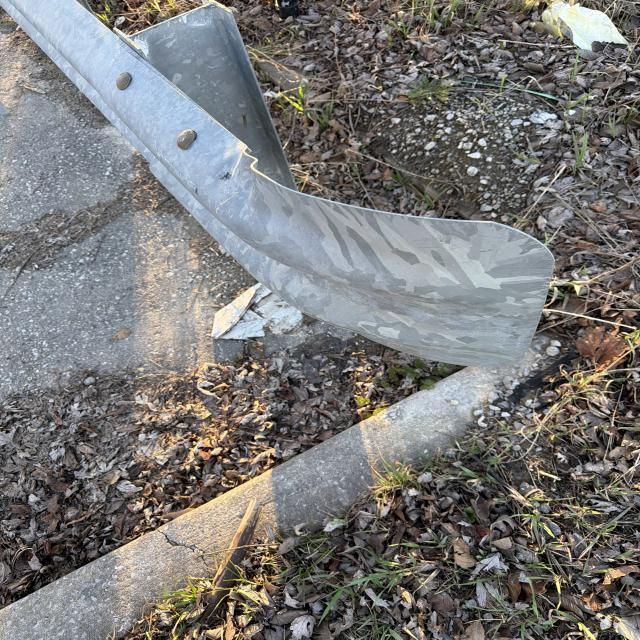Guard rail: (0, 17, 519, 330)
